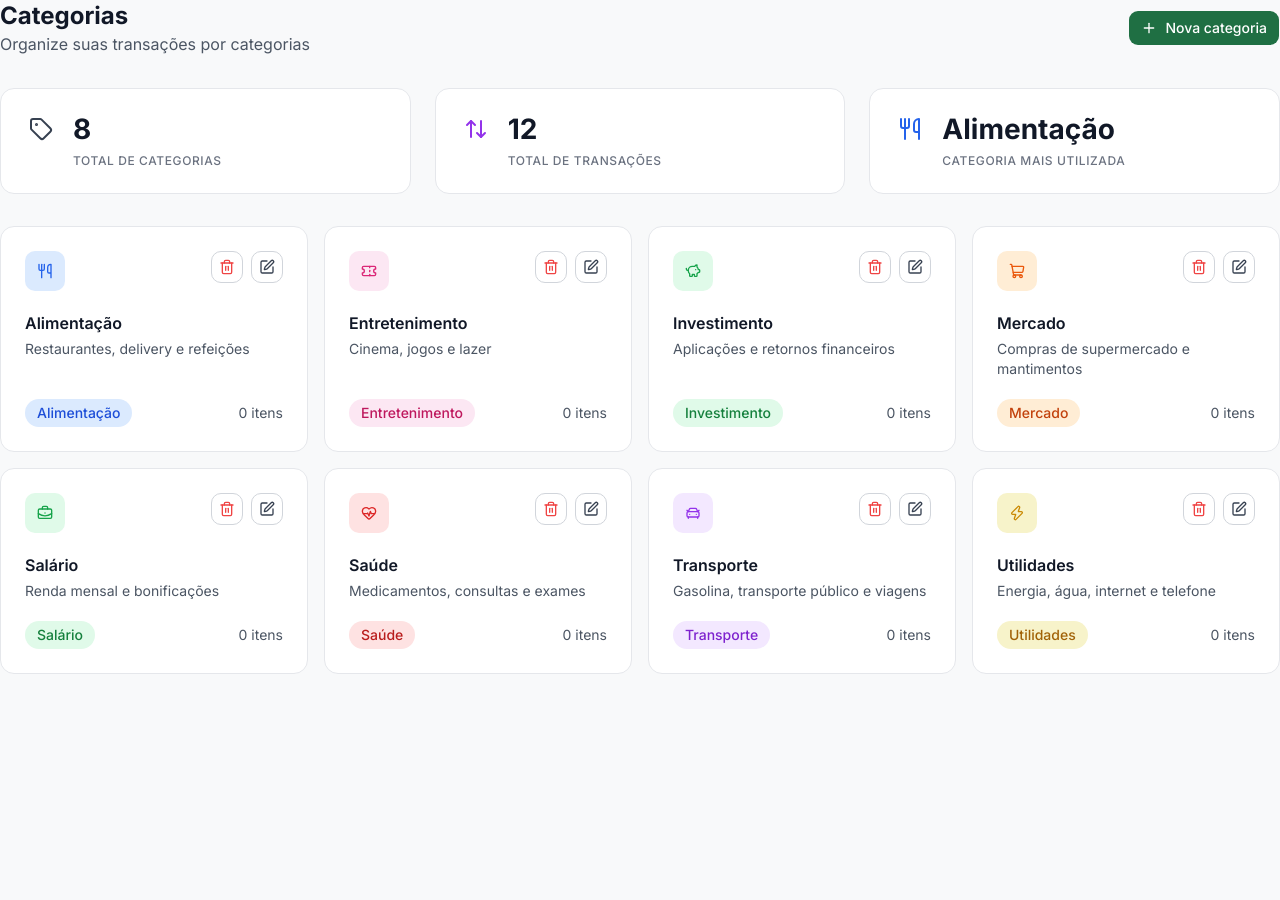
Scenario: Categories page › deletes a category
What coordinates should you click on to do the following:
click the button named "Excluir categoria Alimentação"
I would click on:
 (227, 267)
Its box is [211, 251, 243, 283].
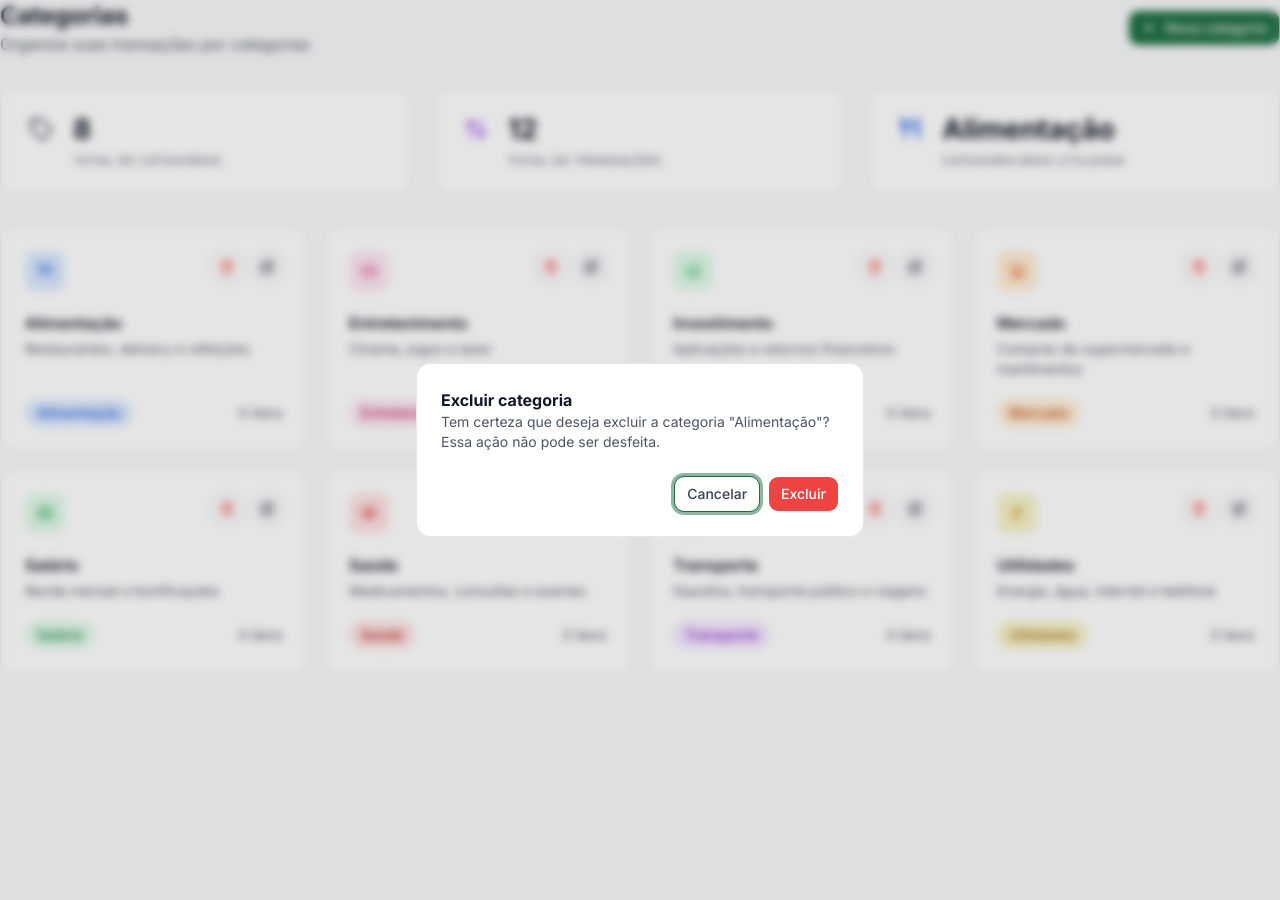
What coordinates should you click on to do the following:
click the button "Excluir"
I would click on:
 (804, 494)
Its box is [768, 476, 839, 512].
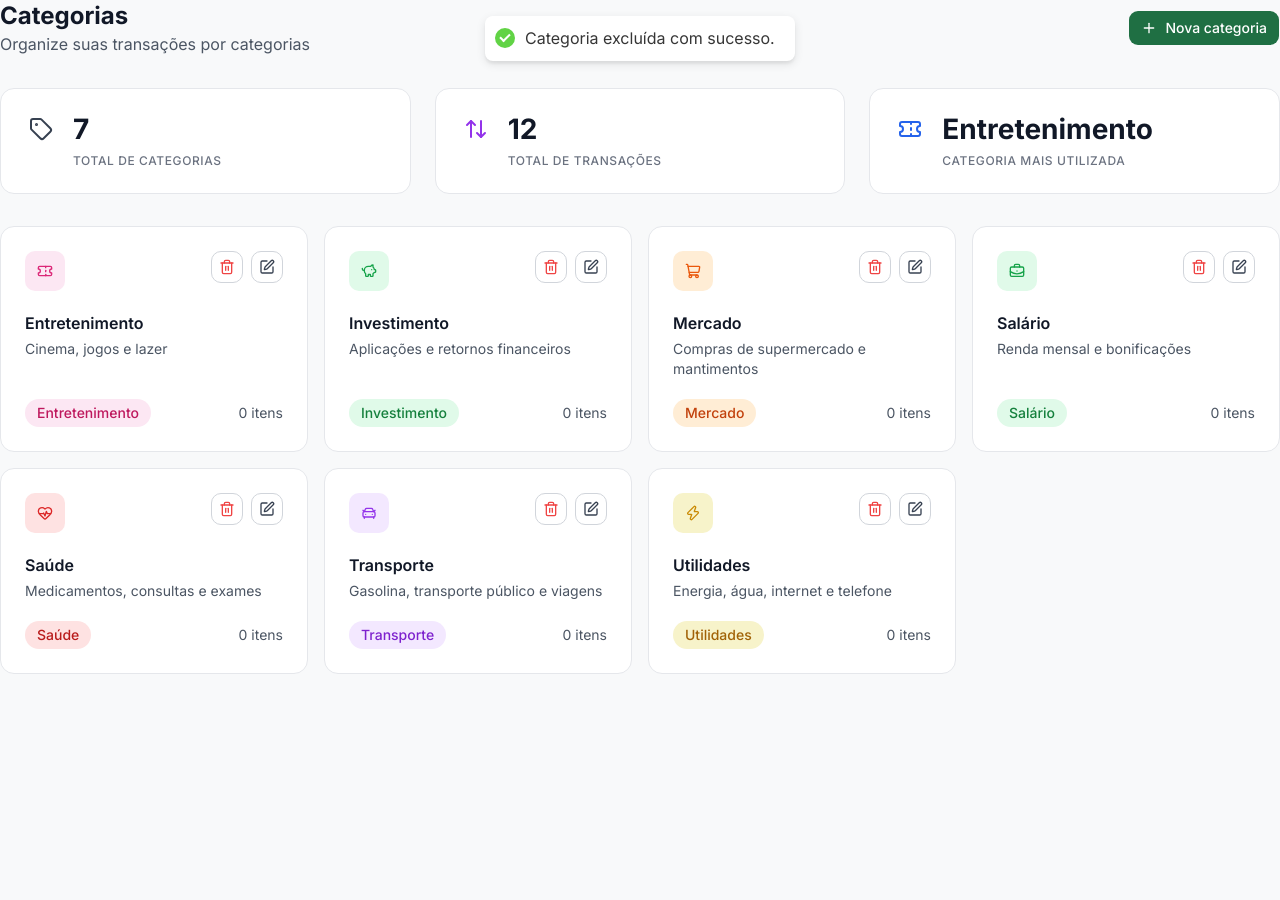
Expected: the text "Categoria excluída com sucesso." is shown, [525, 28, 775, 49]
Expected: the text "Alimentação" is gone
